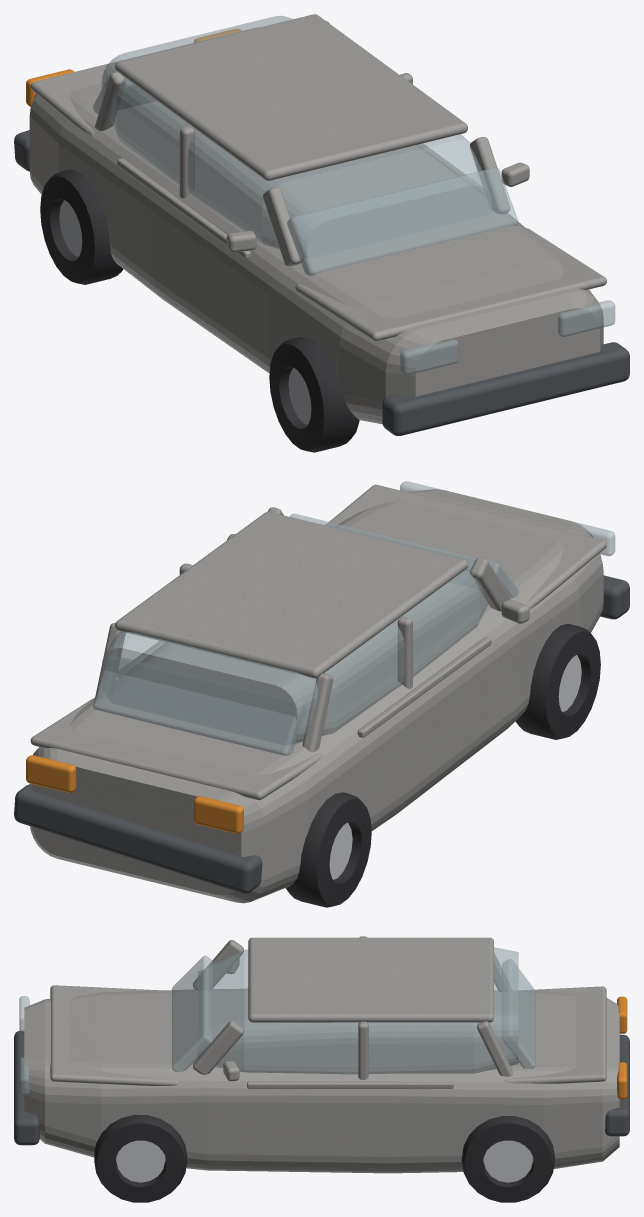
The model's file is battle-royale-town-and-airfield-abandoned-sedan-096c9459__28260.glb.
3 renders of one model, top to bottom at view 1: azimuth 30°, elevation 25°; view 2: azimuth 150°, elevation 25°; view 3: azimuth 270°, elevation 25°, orthographic. The views are drawn at different scales.
Parts seen in each view (by area): view 1: abandoned-sedan; view 2: abandoned-sedan; view 3: abandoned-sedan.
Boxes of the visible parts, <box> form: abandoned-sedan: <box>14,14,629,452</box>; abandoned-sedan: <box>14,481,629,907</box>; abandoned-sedan: <box>14,936,629,1202</box>.
Bounding box in the file's own units: 2.14 × 1.49 × 4.76.
6 materials, 1 textured.
